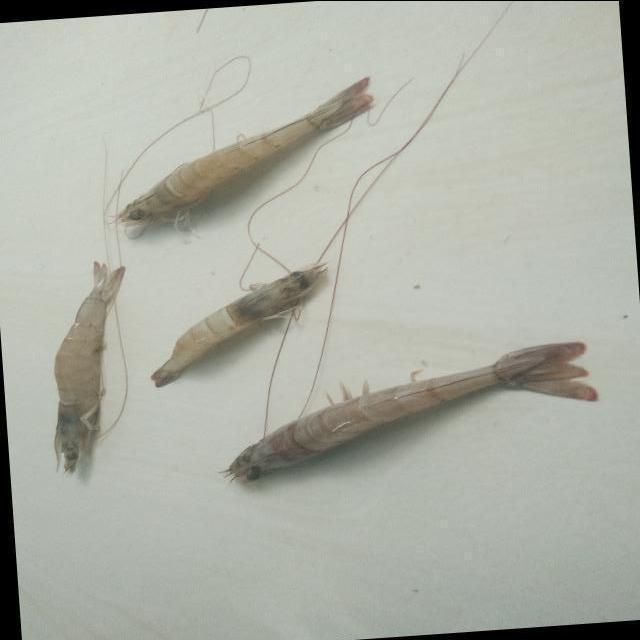shrimp: (224, 341, 598, 482), (114, 75, 373, 237), (151, 261, 326, 386), (52, 261, 123, 473)
